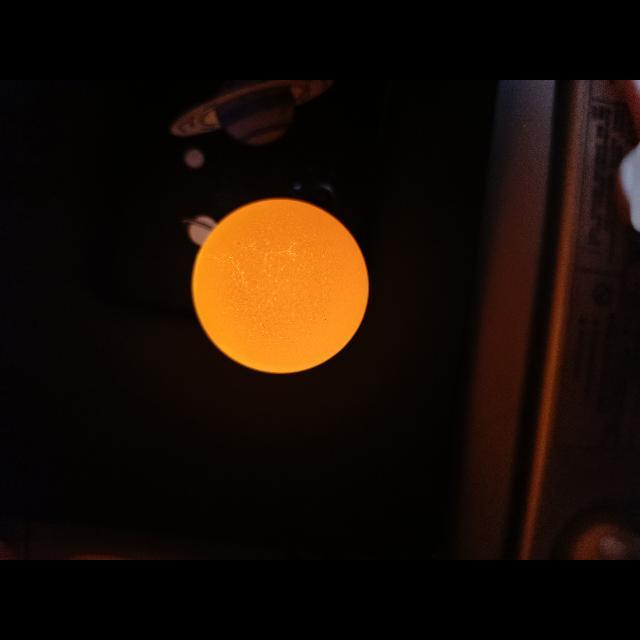AA - Premium: (193, 199, 369, 374)
